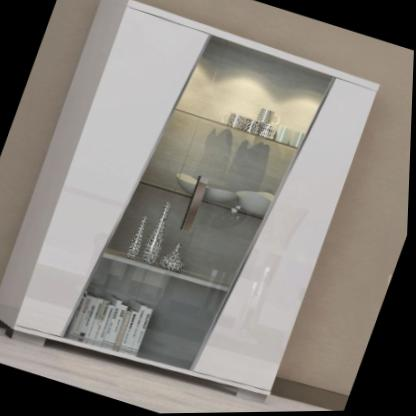Cupboard: (0, 0, 380, 398)
